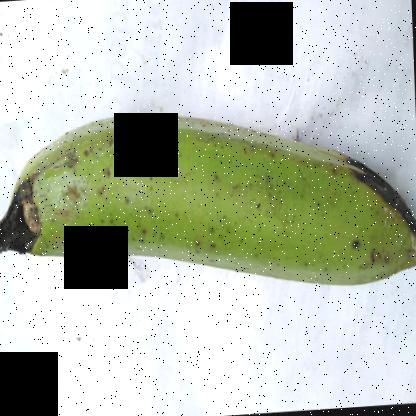unripe: (47, 104, 416, 299)
